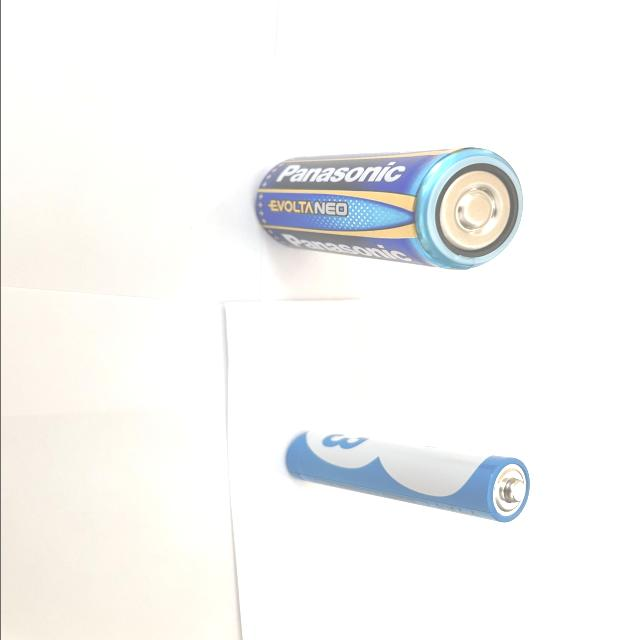AA: (284, 429, 530, 524)
